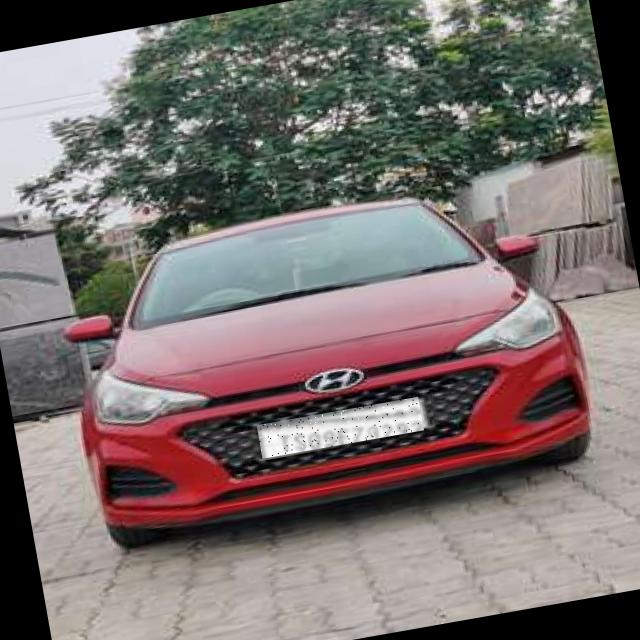Plate: (258, 398, 425, 460)
